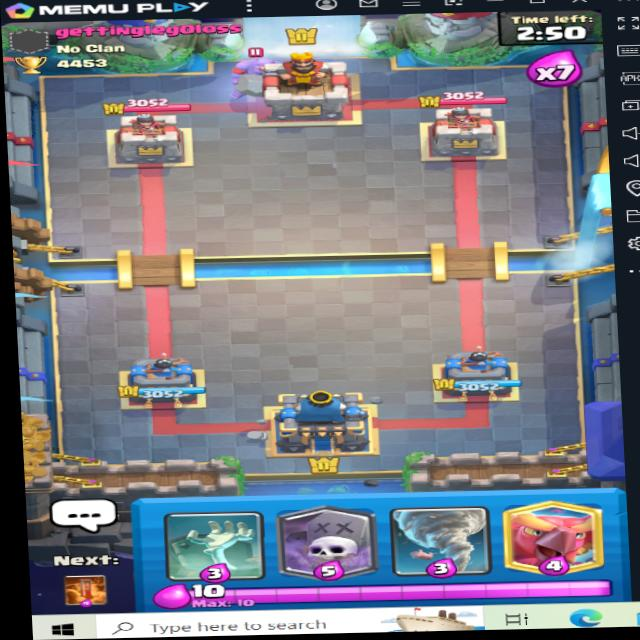bowler: (225, 43, 293, 97)
